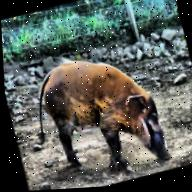boar: (14, 20, 192, 191)
